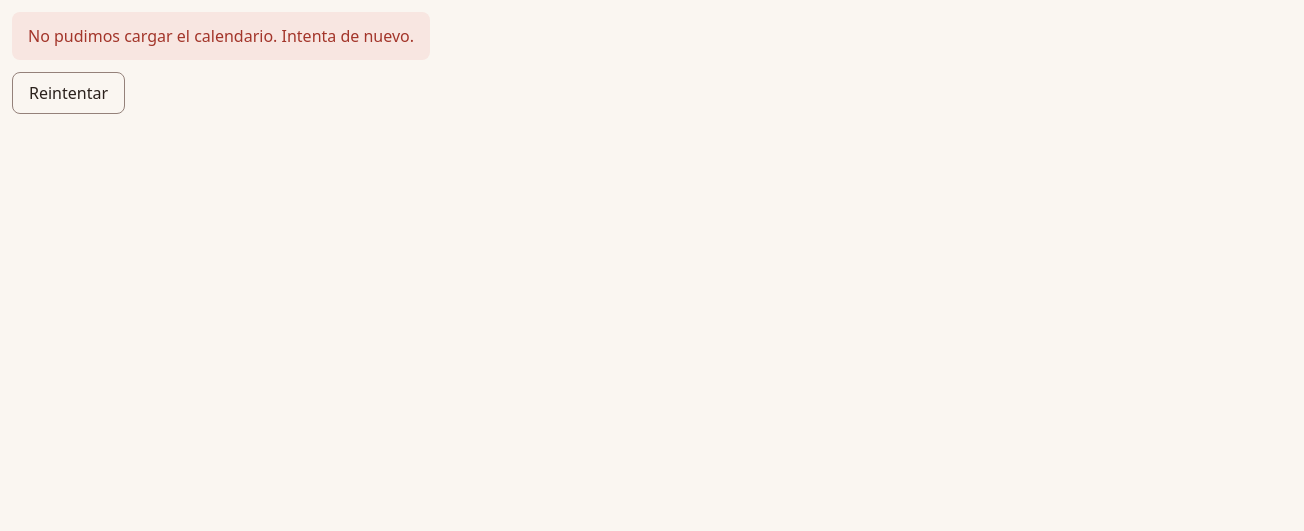
it: CalendarioConsulta › si la recarga falla, muestra el error con la opción de reintentar
The width and height of the screenshot is (1304, 531).
Later steps or results of the test are not shown.
Expected: the message "No pudimos cargar el calendario. Intenta de nuevo." is shown, [12,12,430,60]
Click the button "Reintentar". click: x=68, y=93
box: [12,72,125,114]
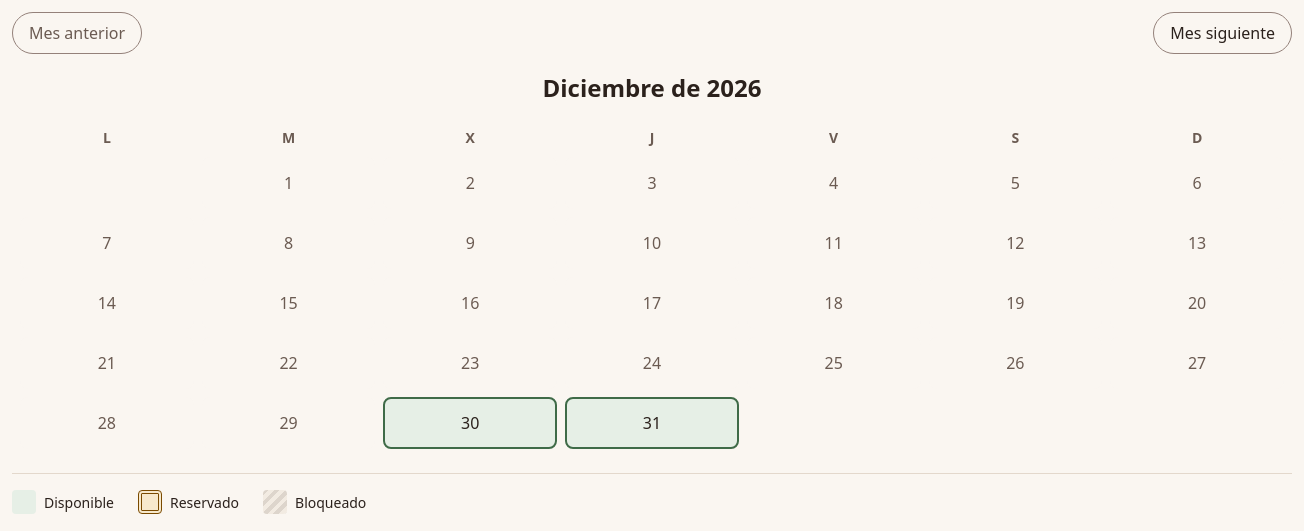
Result: the table is shown
